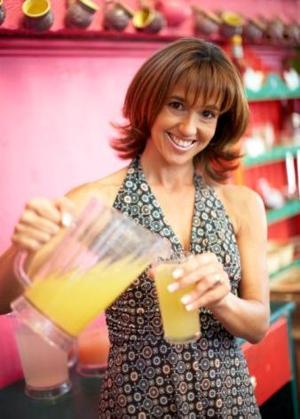person: (2, 39, 271, 419)
